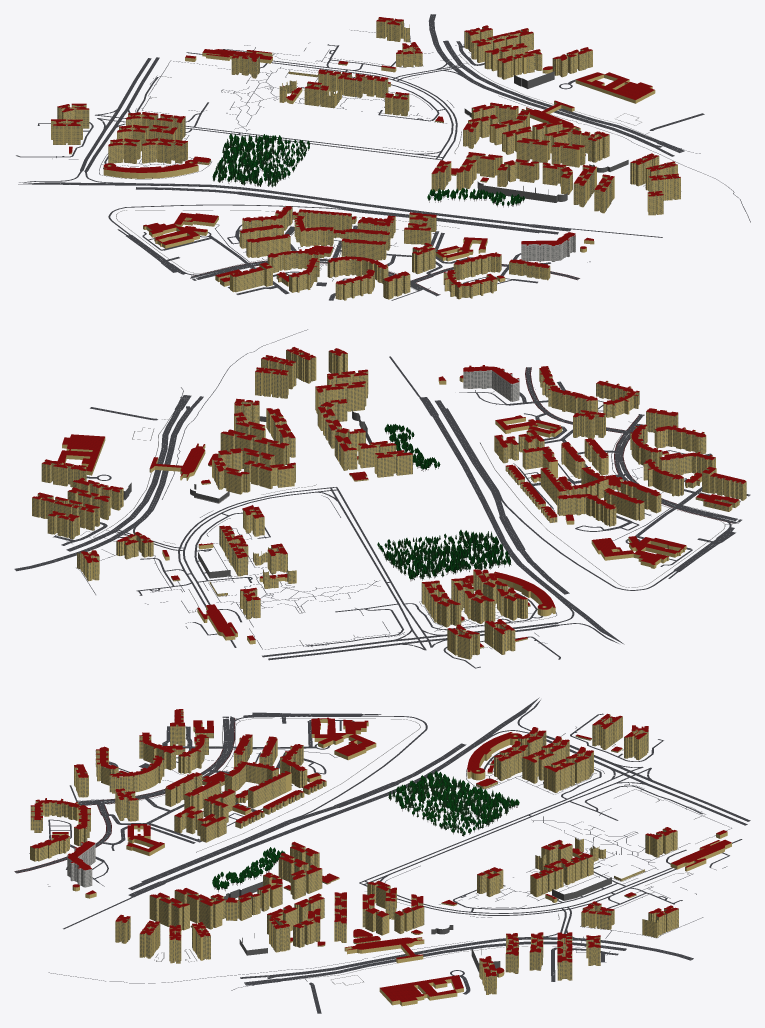
File: osm3d.glb
3 views of the same model, one above another, from view 1: azimuth 30°, elevation 25°; view 2: azimuth 150°, elevation 25°; view 3: azimuth 270°, elevation 25° (orthographic). The views are drawn at different scales.
Parts seen in each view (by area): view 1: Plaster002, Windows, RoofingTiles010, ASPHALT, TextureAtlas 214d2d4b, Concrete034, Plaster002.001; view 2: Plaster002, Windows, RoofingTiles010, ASPHALT, TextureAtlas 214d2d4b, Concrete034, Plaster002.001, Windows.001; view 3: Plaster002, RoofingTiles010, ASPHALT, Windows, TextureAtlas 214d2d4b, Concrete034, Plaster002.001.
Part boxes in pixels (left/top/right/bottom): Plaster002: left=51, top=18, right=680, bottom=300; Windows: left=51, top=19, right=680, bottom=299; RoofingTiles010: left=51, top=17, right=680, bottom=287; ASPHALT: left=16, top=14, right=750, bottom=300; TextureAtlas 214d2d4b: left=212, top=133, right=524, bottom=207; Concrete034: left=116, top=53, right=681, bottom=290; Plaster002.001: left=521, top=234, right=575, bottom=262; Plaster002: left=32, top=347, right=746, bottom=659; Windows: left=32, top=349, right=746, bottom=658; RoofingTiles010: left=32, top=347, right=746, bottom=647; ASPHALT: left=14, top=329, right=750, bottom=668; TextureAtlas 214d2d4b: left=377, top=424, right=511, bottom=581; Concrete034: left=89, top=389, right=738, bottom=644; Plaster002.001: left=463, top=370, right=519, bottom=401; Windows.001: left=464, top=371, right=518, bottom=400; Plaster002: left=30, top=710, right=731, bottom=1006; RoofingTiles010: left=30, top=709, right=731, bottom=1002; ASPHALT: left=15, top=697, right=750, bottom=1013; Windows: left=30, top=710, right=678, bottom=994; TextureAtlas 214d2d4b: left=212, top=770, right=519, bottom=892; Concrete034: left=57, top=718, right=700, bottom=985; Plaster002.001: left=67, top=843, right=95, bottom=887.
Bounding box in the file's own units: 1296 × 45 × 1275.
Materials: 20 (20 with a texture image).
